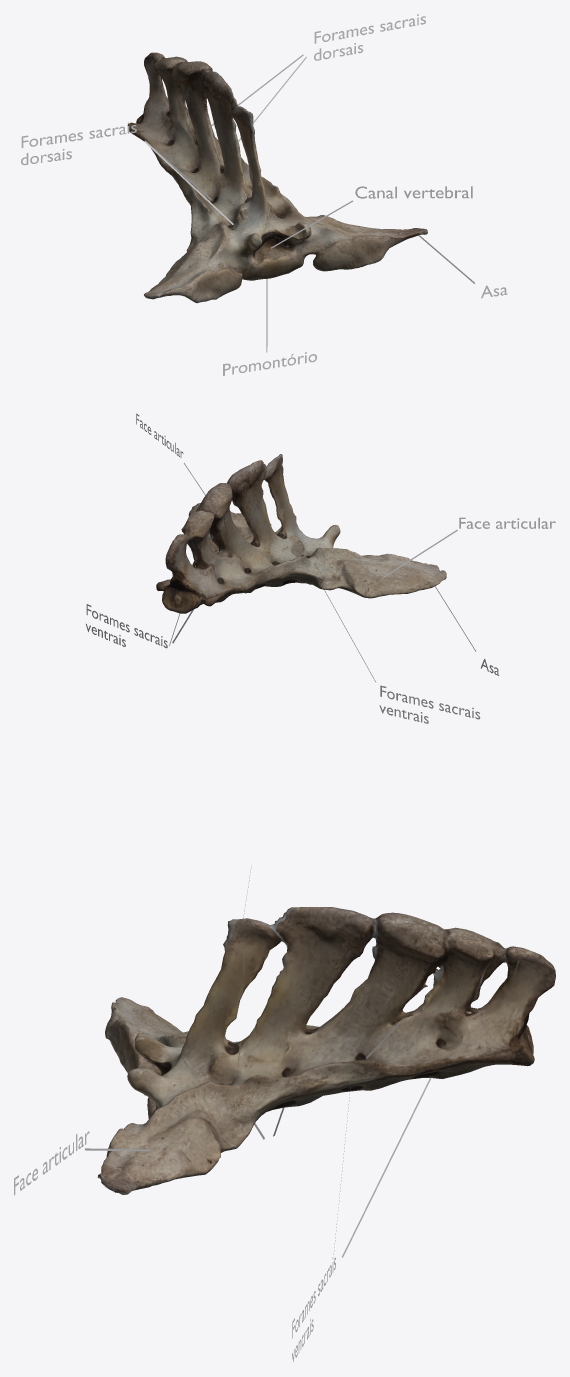
Rendered from Sacro.glb.
3 views of the same model, one above another, from view 1: azimuth 30°, elevation 25°; view 2: azimuth 150°, elevation 25°; view 3: azimuth 270°, elevation 25° (orthographic). The views are drawn at different scales.
Visible parts, largest first — view 1: 3DModel_LowPoly, Texto.034, Texto.036, Texto.004; view 2: 3DModel_LowPoly, Texto.001, Texto.009, Texto.023; view 3: 3DModel_LowPoly.
Boxes of the visible parts, x1,y1,x2,y2 form: 3DModel_LowPoly: (127, 52, 427, 303); Texto.034: (21, 122, 136, 165); Texto.036: (314, 14, 425, 60); Texto.004: (355, 186, 472, 198); 3DModel_LowPoly: (156, 454, 446, 613); Texto.001: (379, 685, 480, 723); Texto.009: (86, 604, 167, 648); Texto.023: (459, 517, 555, 528); 3DModel_LowPoly: (97, 907, 555, 1194).
Size of the model in its own units: 3 by 1.58 by 2.13.
Materials: 1 (1 with a texture image).
